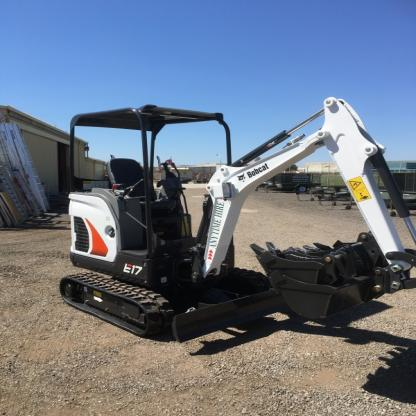excavator: (48, 84, 412, 372)
